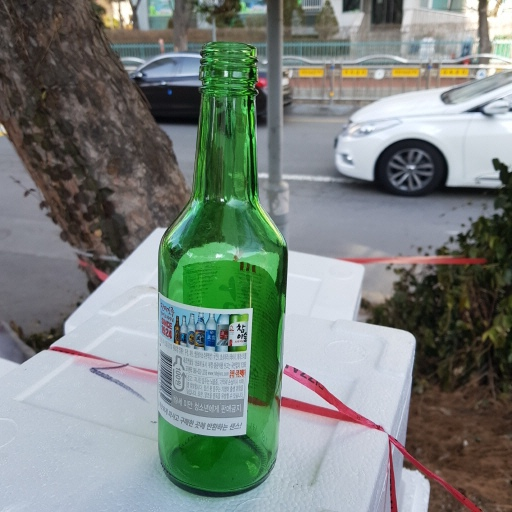Glass_0: (151, 37, 286, 496)
